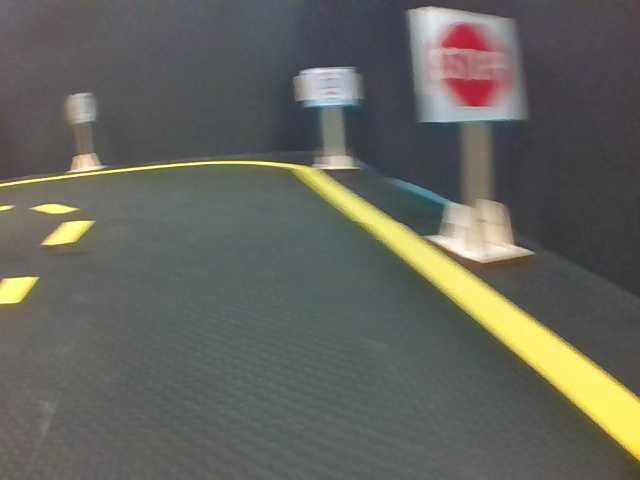30: (310, 68, 356, 105)
stop: (416, 5, 525, 122)
